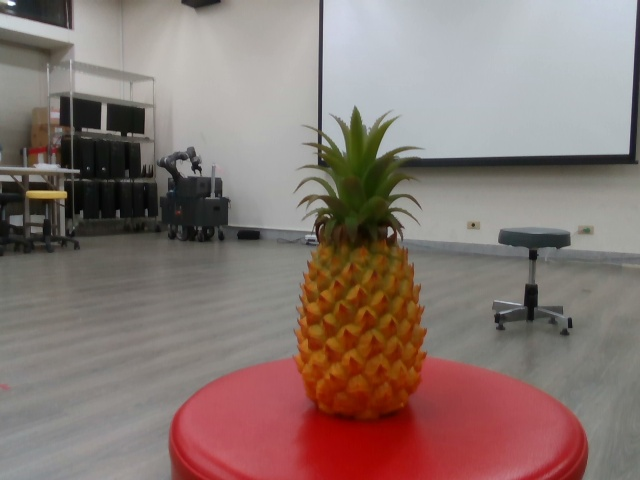pineapple: (289, 102, 435, 425)
